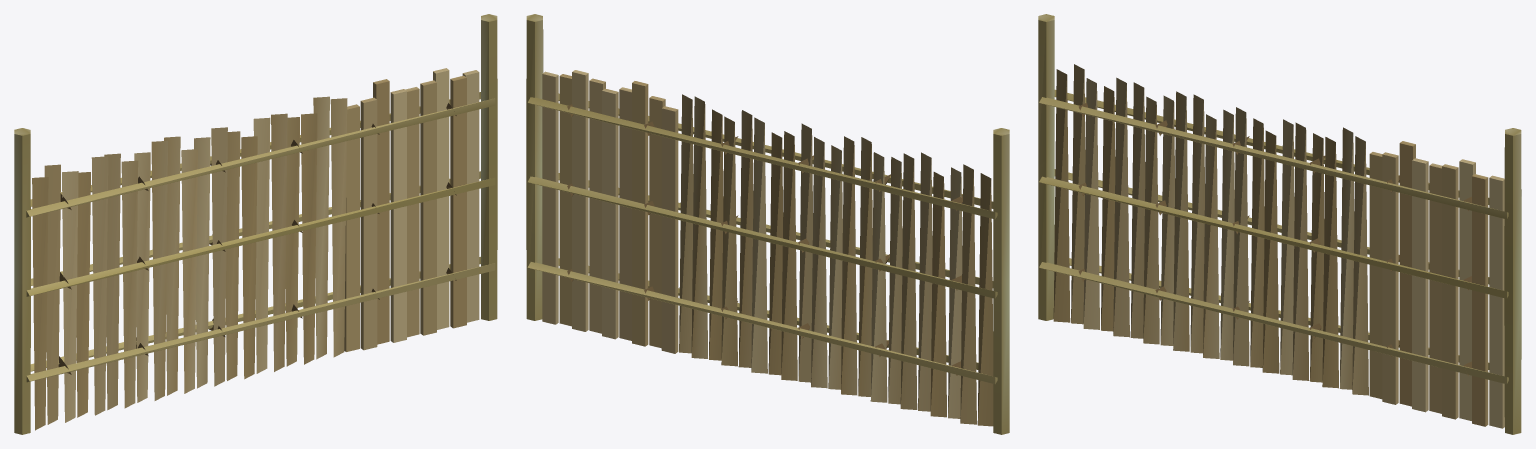
The model's file is zen_bamboo_fence-lod1.glb.
The picture shows the model from 3 angles, left to right: view 1: azimuth 30°, elevation 25°; view 2: azimuth 150°, elevation 25°; view 3: azimuth 330°, elevation 25°; orthographic projection.
Visible parts, largest first — view 1: zen_bamboo_fence; view 2: zen_bamboo_fence; view 3: zen_bamboo_fence.
Part boxes in pixels (box(x1,y1,x2,y2)): zen_bamboo_fence: box(14, 14, 497, 434); zen_bamboo_fence: box(526, 14, 1009, 434); zen_bamboo_fence: box(1038, 14, 1521, 434).
Size of the model in its own units: 4.14 by 2.45 by 0.2201.
